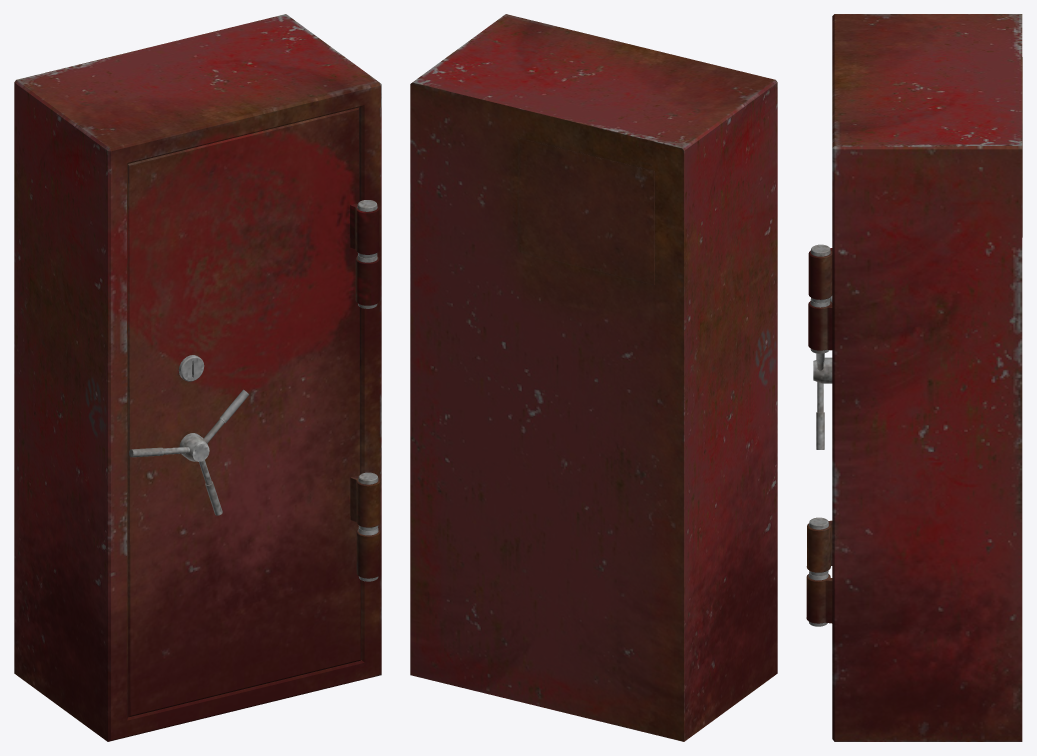
The model's file is red_large_safe_shut.glb.
3 views of the same model, side by side, from view 1: azimuth 30°, elevation 25°; view 2: azimuth 150°, elevation 25°; view 3: azimuth 270°, elevation 25° (orthographic).
Parts seen in each view (by area): view 1: pasted__pTorus1; view 2: pasted__pTorus1; view 3: pasted__pTorus1.
Part boxes in pixels (x1,y1,x2,y2): pasted__pTorus1: (14, 14, 381, 741); pasted__pTorus1: (410, 14, 777, 741); pasted__pTorus1: (806, 14, 1022, 741).
Size of the model in its own units: 2.01 by 4.16 by 1.37.
3 materials, 3 textured.
